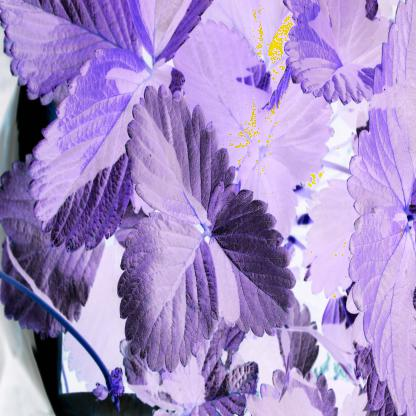strawberry leaf: (125, 80, 237, 240), (35, 82, 144, 243), (124, 209, 223, 376), (198, 195, 300, 342), (1, 0, 165, 72)
